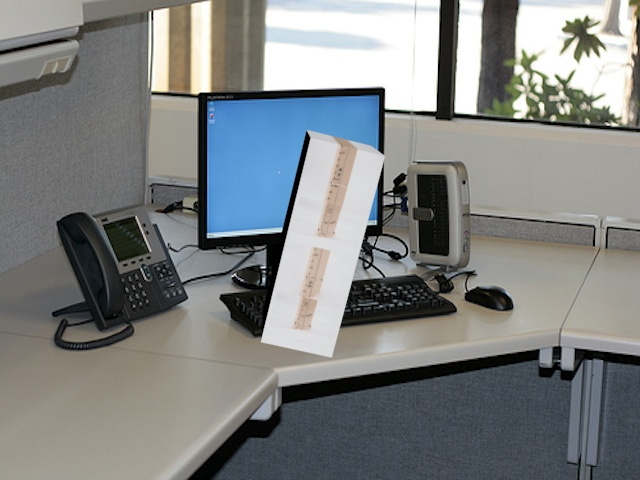file_cabinet: (257, 128, 392, 360)
